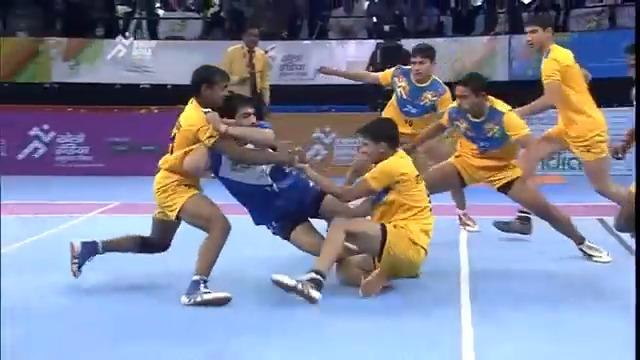Player: (68, 63, 307, 306), (404, 71, 612, 264), (491, 12, 636, 240), (315, 41, 480, 232), (270, 116, 433, 303)
Raider: (206, 92, 387, 293)
referee: (220, 25, 273, 120), (365, 37, 411, 112)
